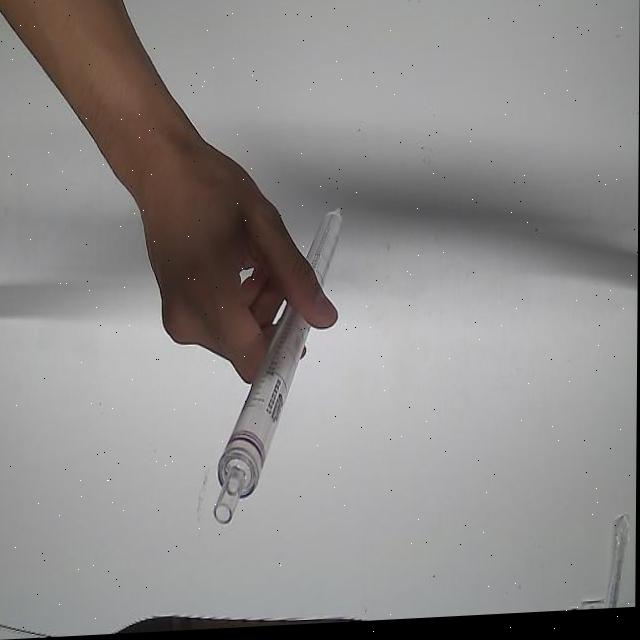Serelogical Pipet 50 mL: (208, 204, 349, 533)
